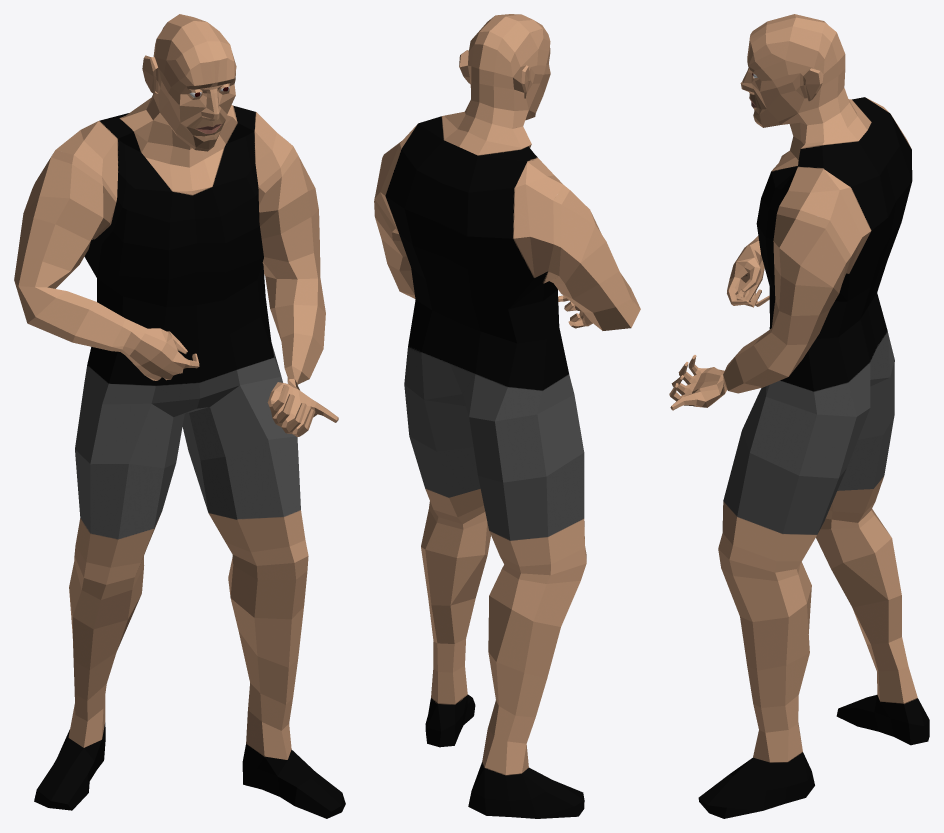
The model's file is PlayerIdle(68).obj.
The picture shows the model from 3 angles, left to right: view 1: azimuth 30°, elevation 25°; view 2: azimuth 150°, elevation 25°; view 3: azimuth 270°, elevation 25°; orthographic projection. The views are drawn at different scales.
Parts seen in each view (by area): view 1: Plane002; view 2: Plane002; view 3: Plane002.
Part boxes in pixels (box(x1,y1,x2,y2)): Plane002: box(14, 14, 345, 818); Plane002: box(374, 14, 640, 818); Plane002: box(669, 14, 929, 818).
Bounding box in the file's own units: 670 × 1799 × 568.
